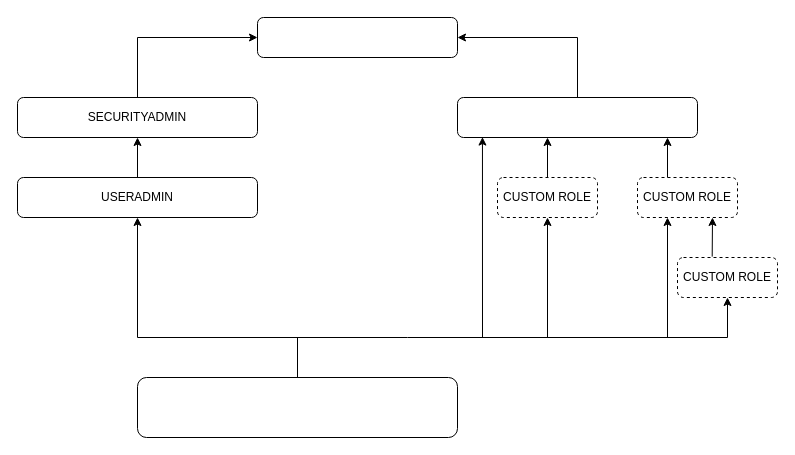
This 795x455 diagram has some shape labels left out. The centre of each missing label's shape, as x and y in pixels:
"ACCOUNTADMIN" belongs at (357,37).
"PUBLIC" belongs at (297,407).
"SYSADMIN" belongs at (577,117).
